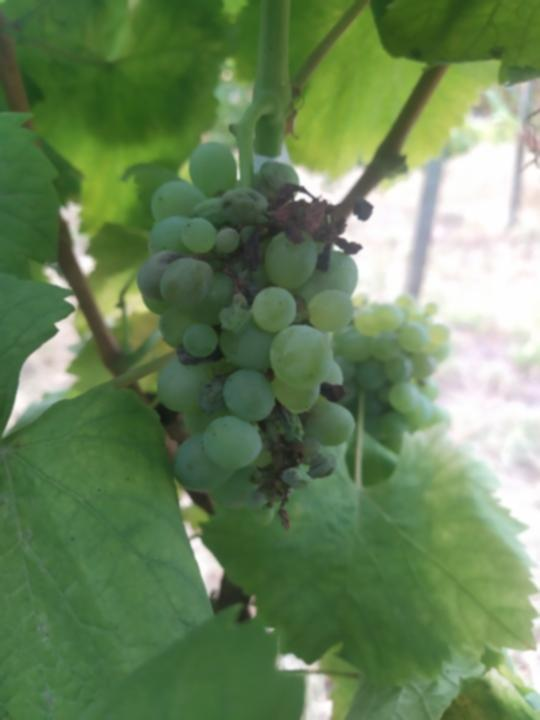grape: (136, 140, 374, 535)
